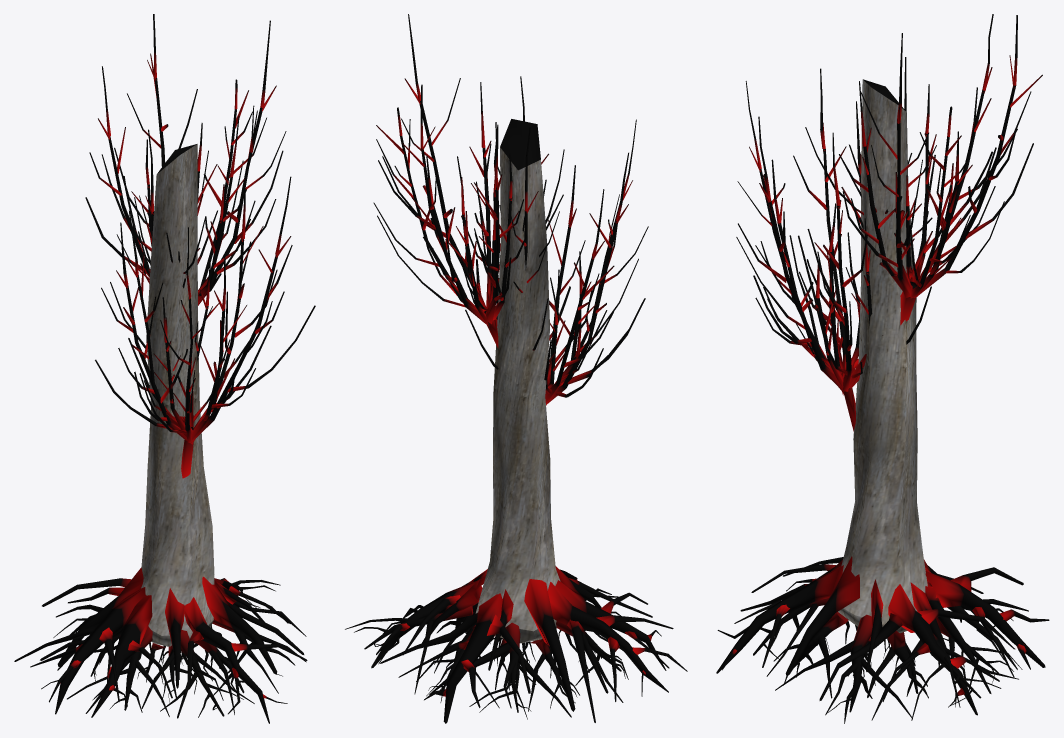
Rendered from Populus nigra Italica HD_Snag 1 dead_LOD4.fbx.
3 renders of one model, left to right at view 1: azimuth 30°, elevation 25°; view 2: azimuth 150°, elevation 25°; view 3: azimuth 270°, elevation 25°, orthographic. The views are drawn at different scales.
Parts seen in each view (by area): view 1: Populus_nigra__Italica__HD; view 2: Populus_nigra__Italica__HD; view 3: Populus_nigra__Italica__HD.
Boxes of the visible parts, x1,y1,x2,y2 form: Populus_nigra__Italica__HD: (14,14,315,723); Populus_nigra__Italica__HD: (345,14,687,723); Populus_nigra__Italica__HD: (716,14,1049,723).
Size of the model in its own units: 4.18 by 8.95 by 3.84.
